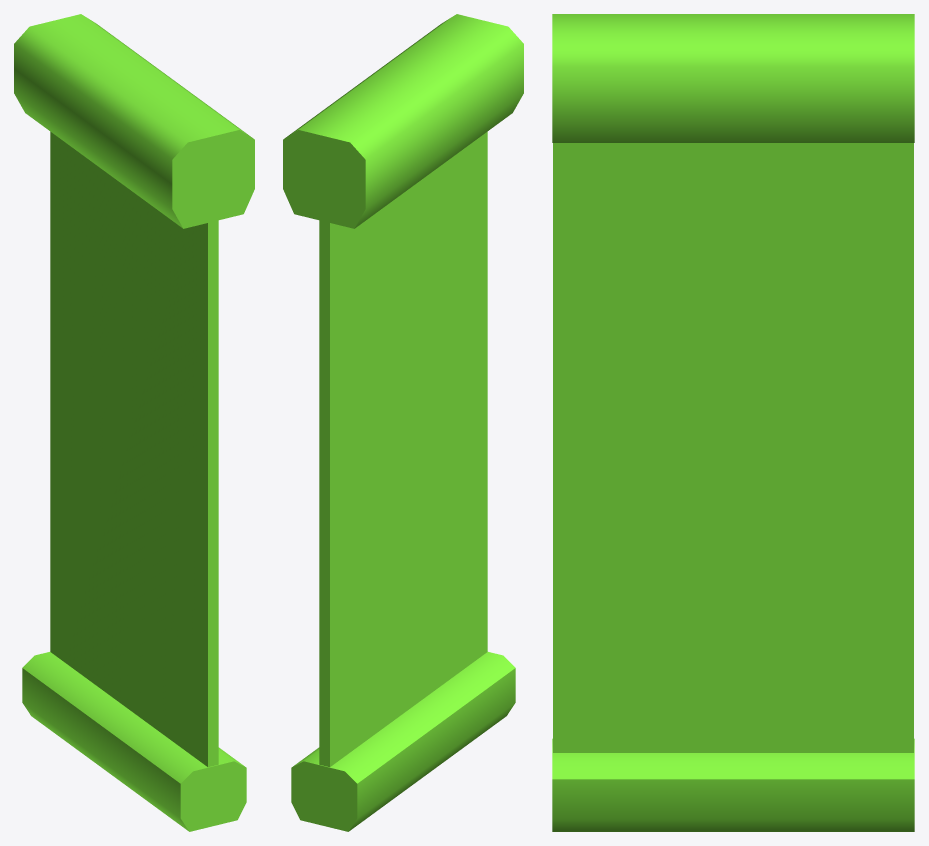
File: Wall_2.fbx
3 renders of one model, left to right at view 1: azimuth 30°, elevation 25°; view 2: azimuth 150°, elevation 25°; view 3: azimuth 270°, elevation 25°, orthographic. The views are drawn at different scales.
Visible parts, largest first — view 1: Cube.026, Cube.027, Cube.028; view 2: Cube.026, Cube.027, Cube.028; view 3: Cube.026, Cube.027, Cube.028.
Boxes of the visible parts, x1,y1,x2,y2 form: Cube.026: (50,131,218,767); Cube.027: (14,14,254,228); Cube.028: (22,652,246,831); Cube.026: (319,131,487,767); Cube.027: (283,14,523,228); Cube.028: (291,652,515,831); Cube.026: (553,143,913,752); Cube.027: (552,14,914,142); Cube.028: (552,738,914,831).
Size of the model in its own units: 27.22 by 218 by 90.48.
